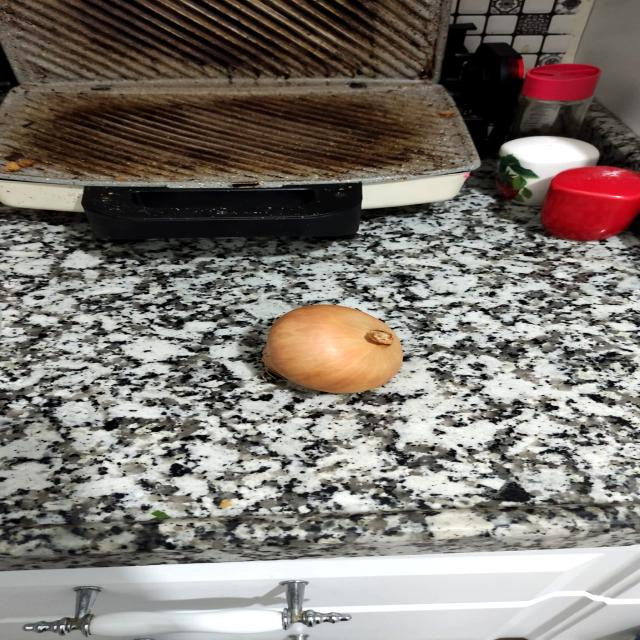onion: (239, 298, 431, 401)
